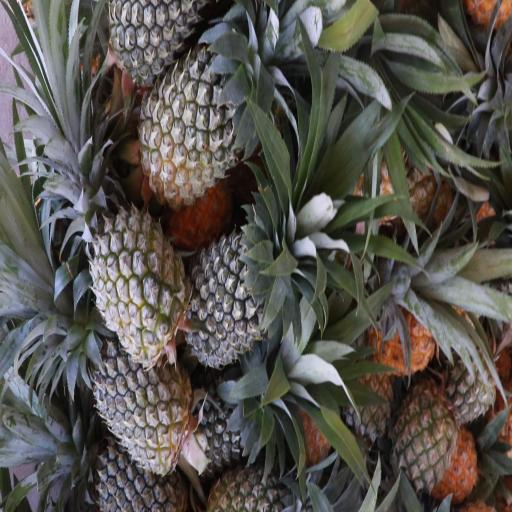------------------------------: (145, 65, 255, 208), (96, 204, 184, 356), (393, 380, 458, 484)
